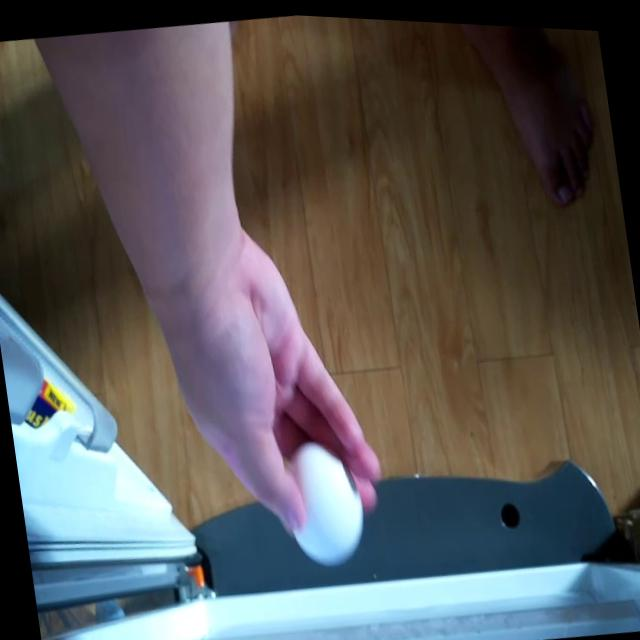egg: (282, 437, 372, 569)
